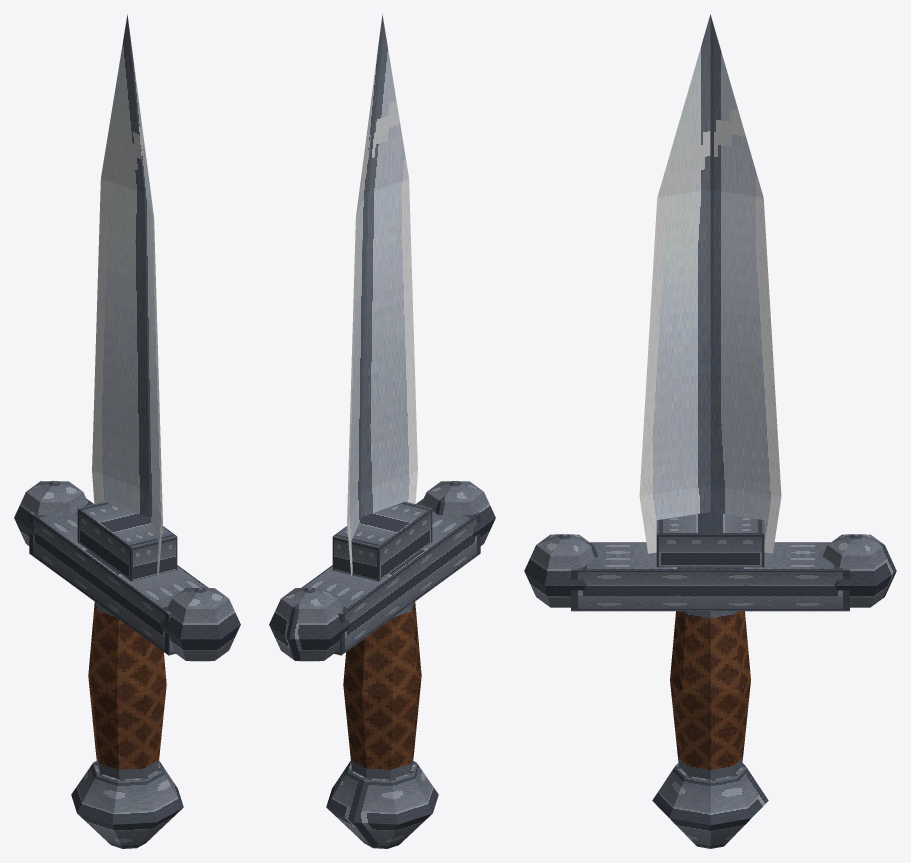
Rendered from adaga_de_prata.glb.
3 views of the same model, side by side, from view 1: azimuth 30°, elevation 25°; view 2: azimuth 150°, elevation 25°; view 3: azimuth 270°, elevation 25° (orthographic).
Parts seen in each view (by area): view 1: adaga_de_prata; view 2: adaga_de_prata; view 3: adaga_de_prata.
Boxes of the visible parts, x1,y1,x2,y2 form: adaga_de_prata: (14,14,240,848); adaga_de_prata: (269,14,495,848); adaga_de_prata: (524,14,896,848).
Bounding box in the file's own units: 0.092 × 0.72 × 0.294.
Materials: 1 (1 with a texture image).
